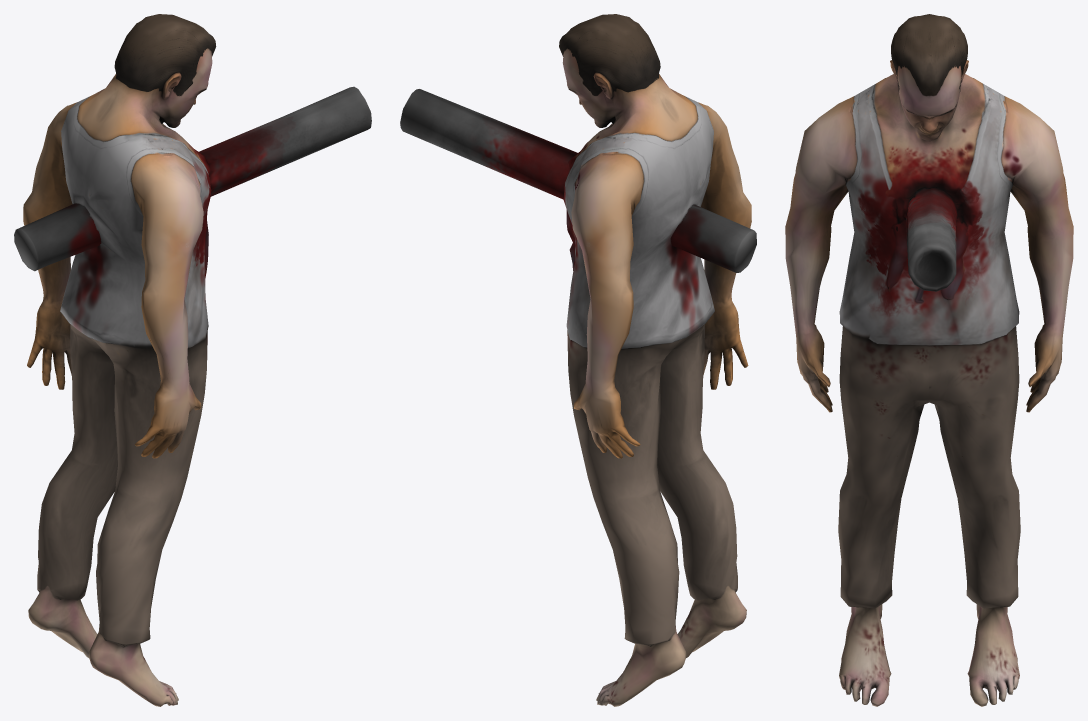
Rendered from mcclane_dead.fbx.
3 views of the same model, side by side, from view 1: azimuth 30°, elevation 25°; view 2: azimuth 150°, elevation 25°; view 3: azimuth 270°, elevation 25° (orthographic). The views are drawn at different scales.
Visible parts, largest first — view 1: mclanelp.001; view 2: mclanelp.001; view 3: mclanelp.001.
Boxes of the visible parts, left/top/right/bottom form: mclanelp.001: left=14, top=14, right=371, bottom=706; mclanelp.001: left=400, top=14, right=756, bottom=706; mclanelp.001: left=785, top=14, right=1073, bottom=706.
Bounding box in the file's own units: 283 × 523 × 196.
